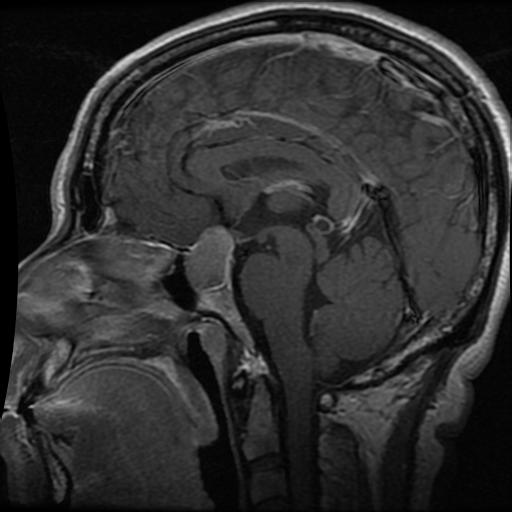Pituirity_tumour: (184, 224, 234, 290)
